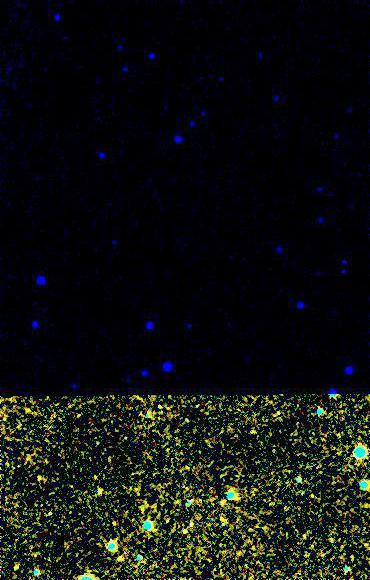star: (204, 506, 234, 536)
